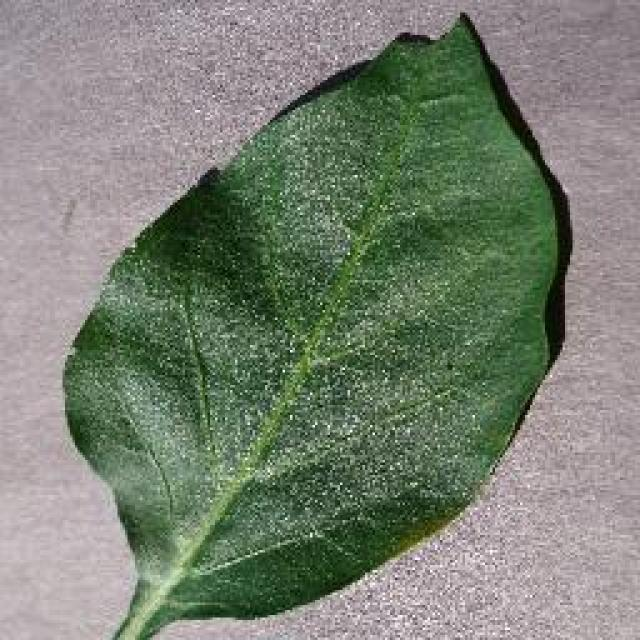Leaf: (92, 53, 570, 540)
